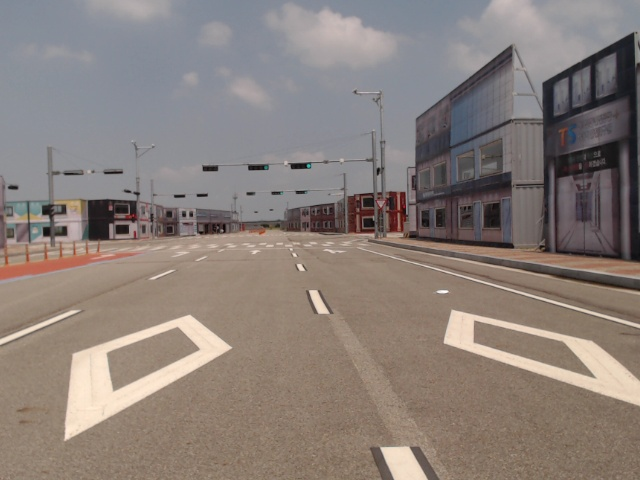straight_green_4: (247, 164, 269, 171), (290, 162, 312, 169), (271, 191, 284, 196), (295, 190, 308, 195)
